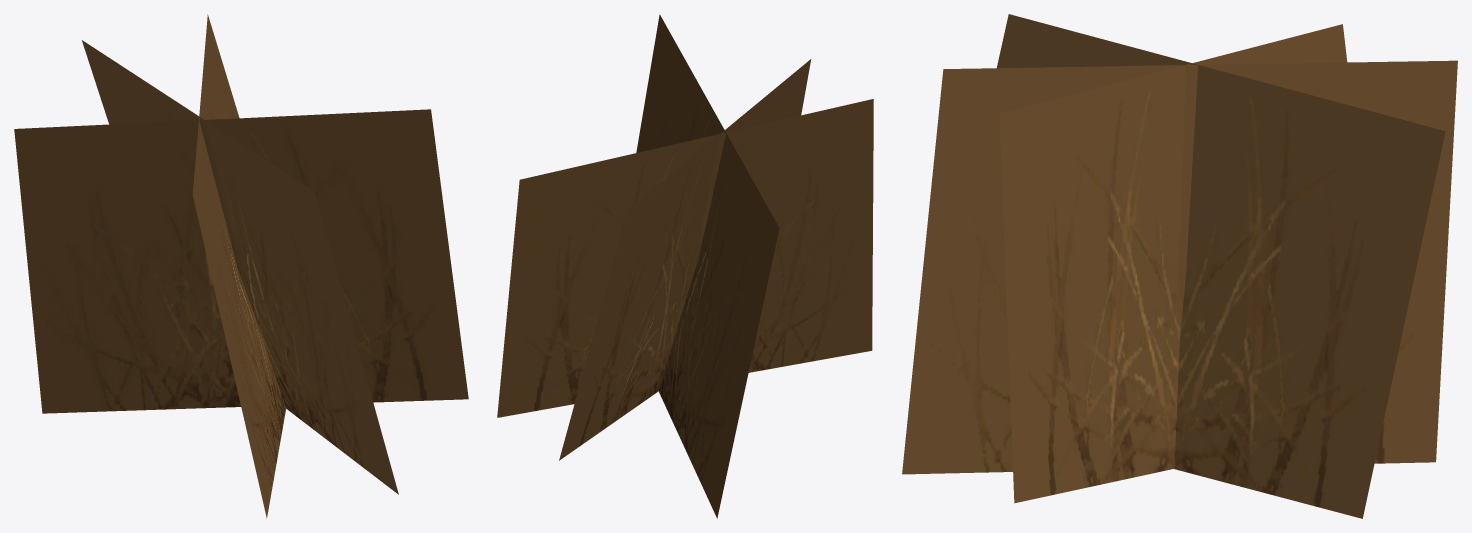
File: xy_plant05.FBX
The picture shows the model from 3 angles, left to right: view 1: azimuth 30°, elevation 25°; view 2: azimuth 150°, elevation 25°; view 3: azimuth 270°, elevation 25°; orthographic projection. The views are drawn at different scales.
Parts seen in each view (by area): view 1: xy_plant05; view 2: xy_plant05; view 3: xy_plant05.
Boxes of the visible parts, x1,y1,x2,y2 form: xy_plant05: (14,14,468,518); xy_plant05: (497,14,873,518); xy_plant05: (902,14,1457,518).
Bounding box in the file's own units: 53.12 × 59.08 × 67.6.
